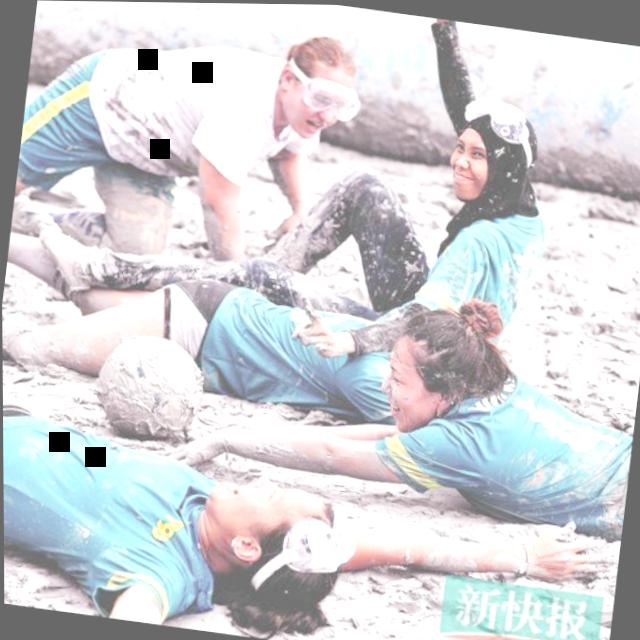Fall-Detected: (2, 381, 338, 640)
